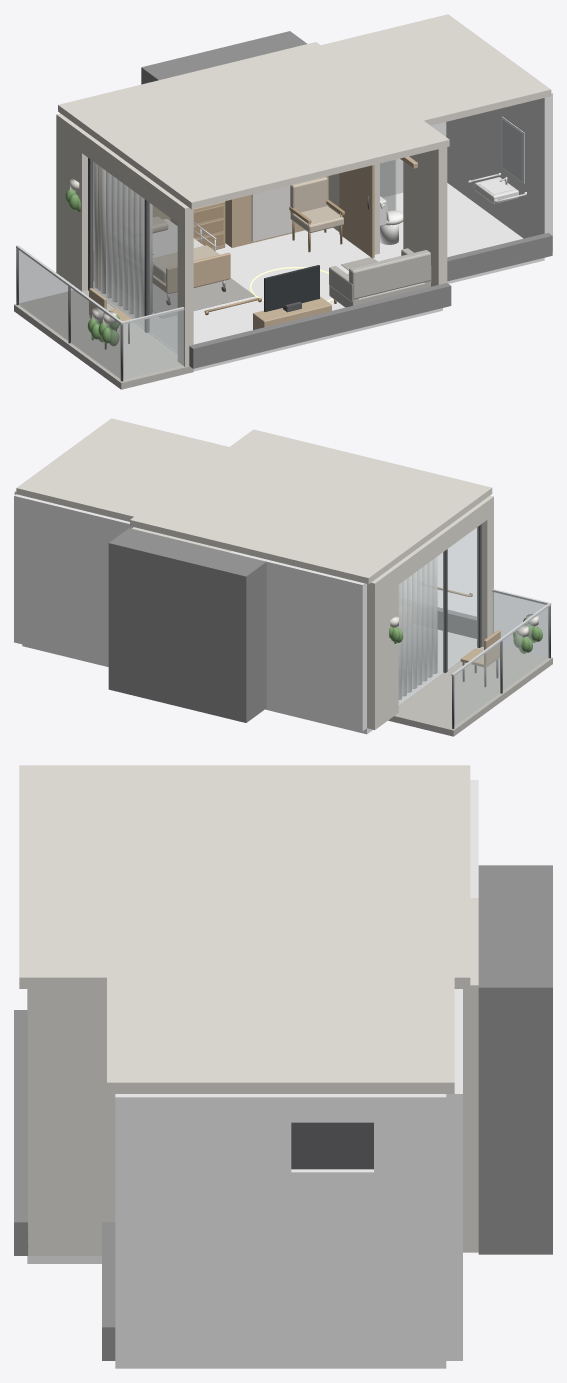
Rendered from safehome_accessible_suite.glb.
3 renders of one model, top to bottom at view 1: azimuth 30°, elevation 25°; view 2: azimuth 150°, elevation 25°; view 3: azimuth 270°, elevation 25°, orthographic. The views are drawn at different scales.
Visible parts, largest first — view 1: CEIL_bedroom_slab, CEIL_bathroom_slab, SHELL_bedroom_floor, SHELL_bath_wall_right_low, SHELL_balcony_floor, SHELL_balc_glass_fixed, SHELL_cutaway_front_bed, SHELL_balc_rail_west, SHELL_part_wall_south, SHELL_wall_left_rear_pier, SHELL_bathroom_floor, SHELL_balc_glass_door (+39 smaller); view 2: CEIL_bedroom_slab, SHELL_back_chase, SHELL_wall_bed_back_brick, SHELL_bath_wall_back, CEIL_bathroom_slab, SHELL_balcony_floor, SHELL_balc_glass_fixed, SHELL_balc_rail_west, SHELL_wall_left_rear_pier, SHELL_balc_glass_door, SHELL_wall_left_header, SHELL_balc_rail_south (+14 smaller); view 3: CEIL_bedroom_slab, SHELL_bath_wall_right_low, CEIL_bathroom_slab, SHELL_back_chase, SHELL_part_wall_south, SHELL_bath_wall_right_top, SHELL_bath_wall_right_S, SHELL_bath_wall_back, SHELL_wall_bed_back_right, SHELL_bath_window_frame, SHELL_bath_wall_right_N, SHELL_cutaway_front_bed (+3 smaller).
Boxes of the visible parts, box(x1,y1,x2,y2) form: CEIL_bedroom_slab: box(58, 42, 449, 209); CEIL_bathroom_slab: box(313, 14, 551, 125); SHELL_bedroom_floor: box(93, 227, 442, 371); SHELL_bath_wall_right_low: box(446, 108, 552, 251); SHELL_balcony_floor: box(14, 290, 193, 389); SHELL_balc_glass_fixed: box(91, 160, 144, 327); SHELL_cutaway_front_bed: box(189, 283, 451, 368); SHELL_balc_rail_west: box(18, 250, 120, 379); SHELL_part_wall_south: box(403, 147, 447, 286); SHELL_wall_left_rear_pier: box(56, 113, 87, 291); SHELL_bathroom_floor: box(376, 183, 544, 283); SHELL_balc_glass_door: box(147, 202, 177, 351); CEIL_bedroom_slab: box(130, 429, 492, 584); SHELL_back_chase: box(108, 528, 266, 722); SHELL_wall_bed_back_brick: box(230, 551, 366, 731); SHELL_bath_wall_back: box(14, 494, 133, 665); CEIL_bathroom_slab: box(16, 418, 236, 521); SHELL_balcony_floor: box(388, 646, 552, 736); SHELL_balc_glass_fixed: box(398, 552, 444, 704); SHELL_balc_rail_west: box(454, 607, 549, 726); SHELL_wall_left_rear_pier: box(367, 565, 398, 729); SHELL_balc_glass_door: box(447, 526, 478, 668); SHELL_wall_left_header: box(395, 500, 487, 584); SHELL_balc_rail_south: box(493, 592, 547, 656); CEIL_bedroom_slab: box(19, 765, 470, 988); SHELL_bath_wall_right_low: box(115, 1169, 446, 1364); CEIL_bathroom_slab: box(107, 970, 454, 1093); SHELL_back_chase: box(478, 865, 552, 1254); SHELL_part_wall_south: box(28, 989, 115, 1255); SHELL_bath_wall_right_top: box(115, 1094, 446, 1122); SHELL_bath_wall_right_S: box(115, 1122, 291, 1172); SHELL_bath_wall_back: box(446, 989, 462, 1360); SHELL_wall_bed_back_right: box(463, 898, 478, 1252); SHELL_bath_window_frame: box(291, 1122, 373, 1169); SHELL_bath_wall_right_N: box(374, 1122, 446, 1172); SHELL_cutaway_front_bed: box(14, 1010, 28, 1255).
Bounding box in the file's own units: 8.69 × 3.1 × 5.21.
